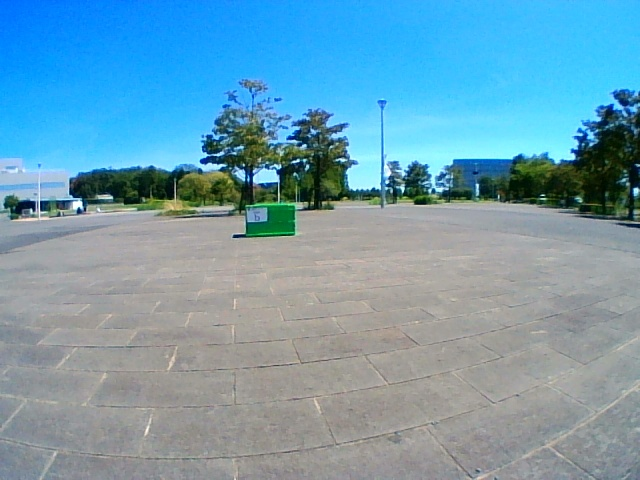green_box: (246, 203, 294, 235)
tag_b: (247, 207, 267, 222)
